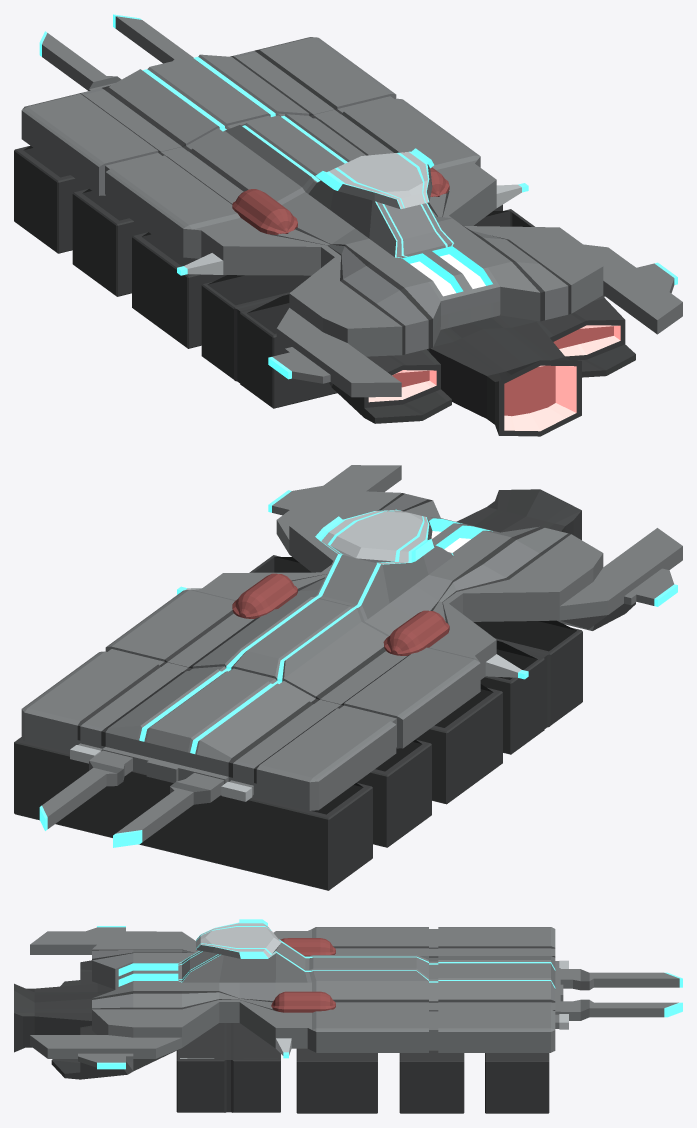
The model's file is Cargo_M_LODGroup.fbx.
The picture shows the model from 3 angles, top to bottom: view 1: azimuth 30°, elevation 25°; view 2: azimuth 150°, elevation 25°; view 3: azimuth 270°, elevation 25°; orthographic projection. The views are drawn at different scales.
Visible parts, largest first — view 1: Cargo M_LOD0; view 2: Cargo M_LOD0; view 3: Cargo M_LOD0.
Boxes of the visible parts, x1,y1,x2,y2 form: Cargo M_LOD0: (14, 14, 682, 436); Cargo M_LOD0: (14, 465, 682, 890); Cargo M_LOD0: (14, 919, 682, 1113).
Size of what is drawn, in the model's own units: 142 by 58.8 by 291.
